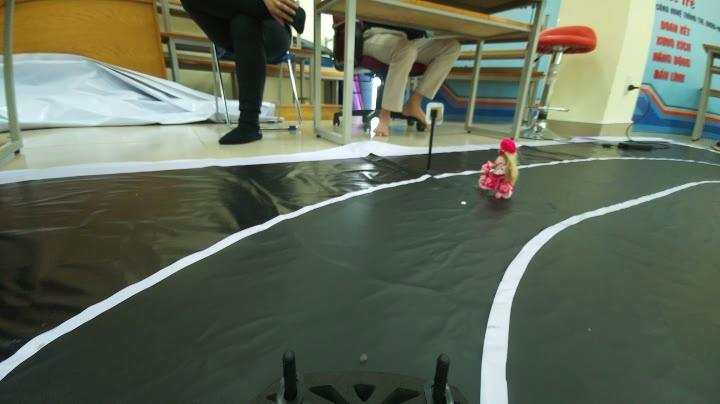pedestrian: (476, 138, 530, 208)
